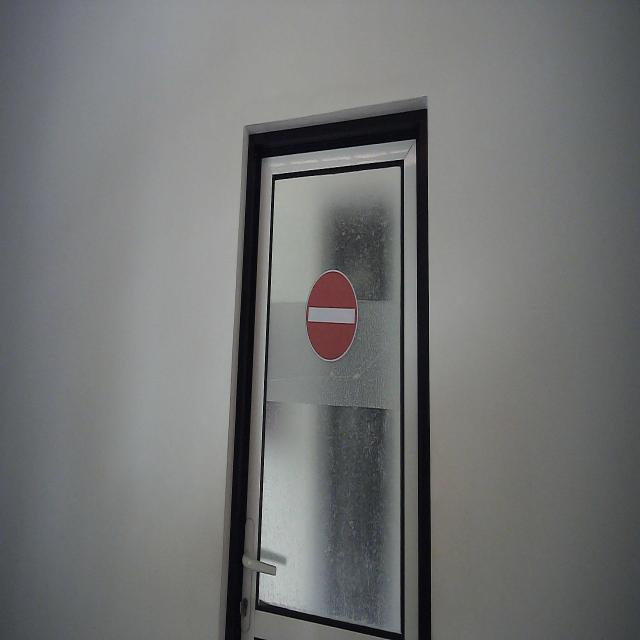no_entry: (304, 268, 360, 364)
